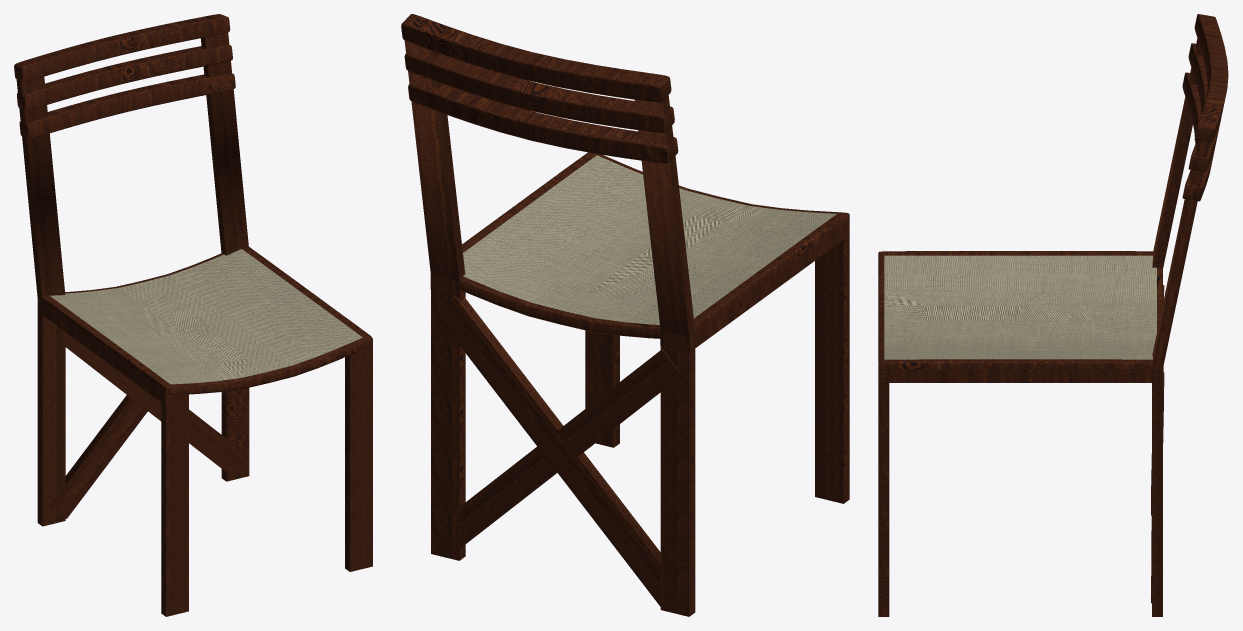
File: SillaExt.fbx
3 renders of one model, left to right at view 1: azimuth 30°, elevation 25°; view 2: azimuth 150°, elevation 25°; view 3: azimuth 270°, elevation 25°, orthographic. The views are drawn at different scales.
Visible parts, largest first — view 1: SillaExt; view 2: SillaExt; view 3: SillaExt.
Boxes of the visible parts, <box> form: SillaExt: <box>14,14,372,616</box>; SillaExt: <box>401,14,849,616</box>; SillaExt: <box>878,14,1228,616</box>.
Bounding box in the file's own units: 44.06 × 90.33 × 58.22.
